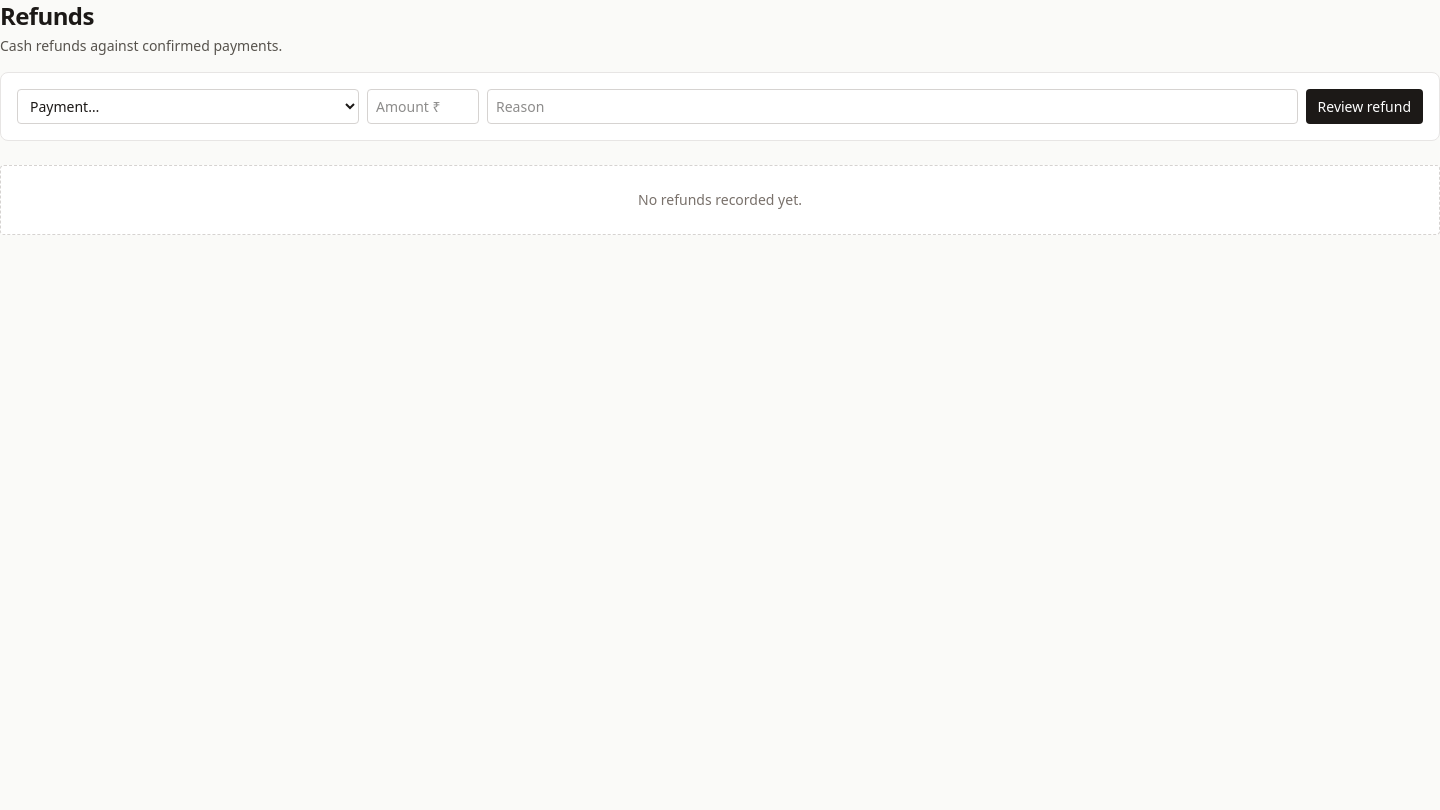
Test: Admin pages (Stage 7) › refunds page creates a refund only after confirmation
The width and height of the screenshot is (1440, 810).
Later steps or results of the test are not shown.
Expected: the text "No refunds recorded yet." is shown, [0, 165, 1439, 235]
Step 1. Select "R-2026-11-24-001 · B-2026-11-24-001 · ₹548.00" in the dropdown named "Payment to refund" → {"x": 188, "y": 106}, box [17, 89, 359, 124]
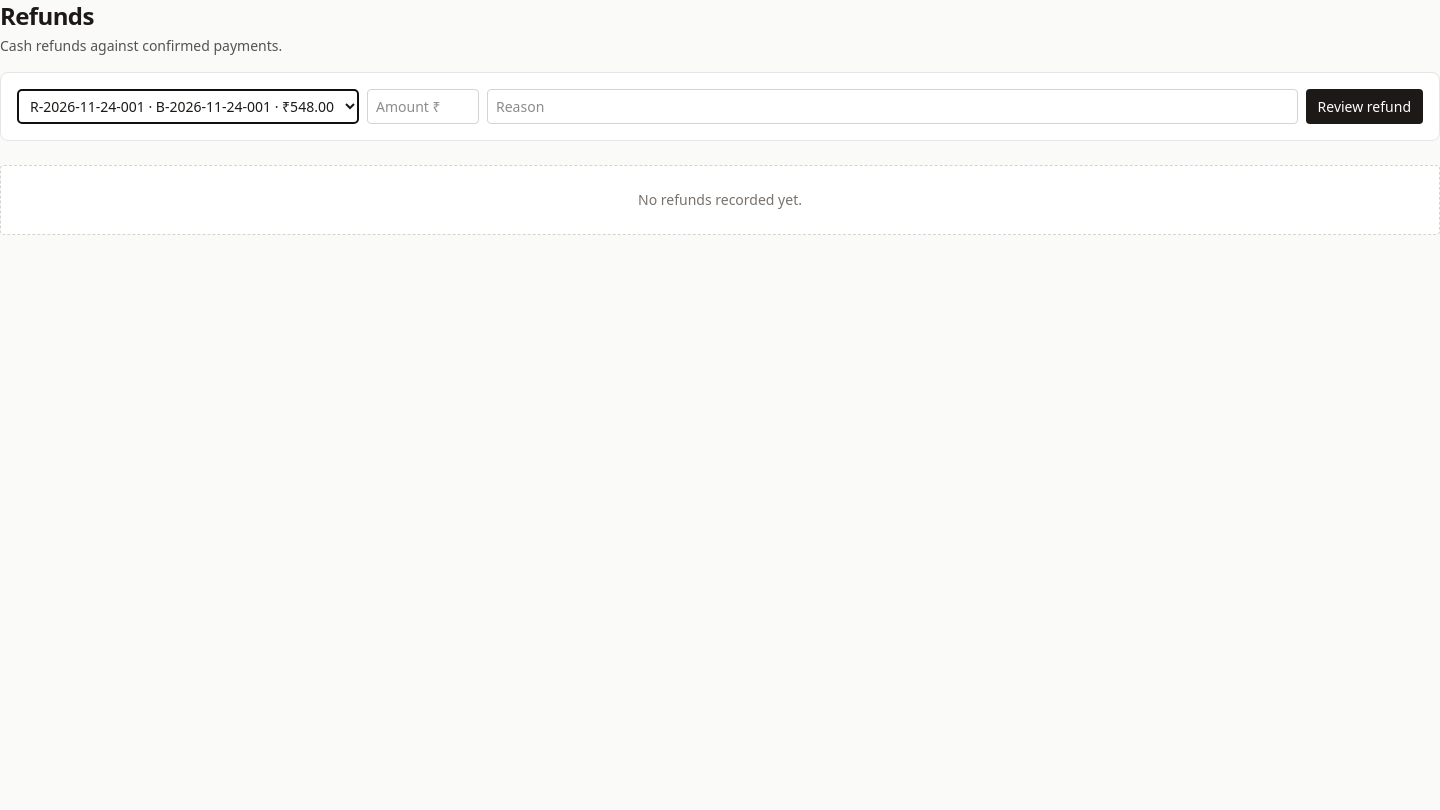
Step 2. Type "100" into the field named "Refund amount in rupees" → {"x": 423, "y": 106}, box [367, 89, 479, 124]
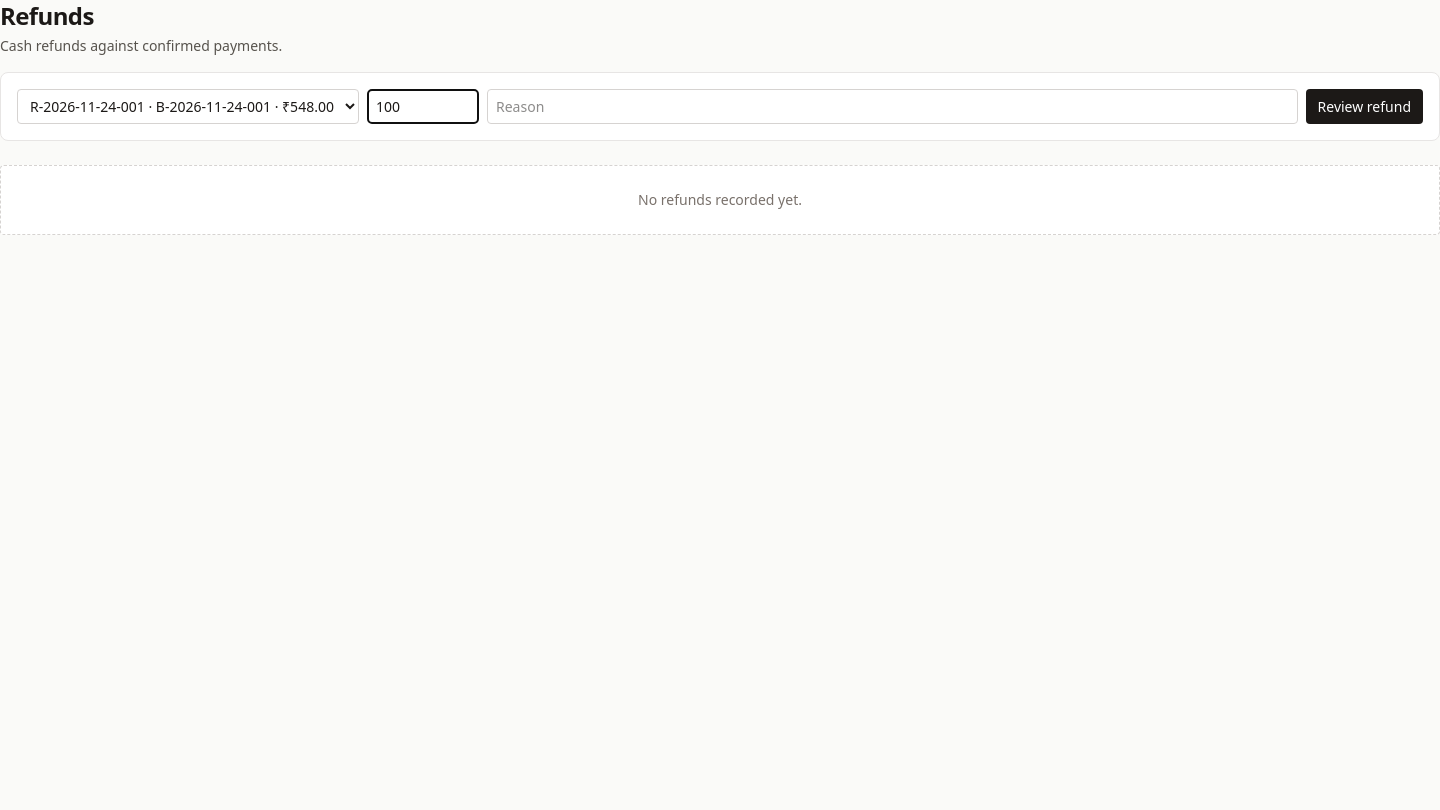
Step 3. Type "Wrong dish" into the field named "Refund reason" → {"x": 892, "y": 106}, box [487, 89, 1298, 124]
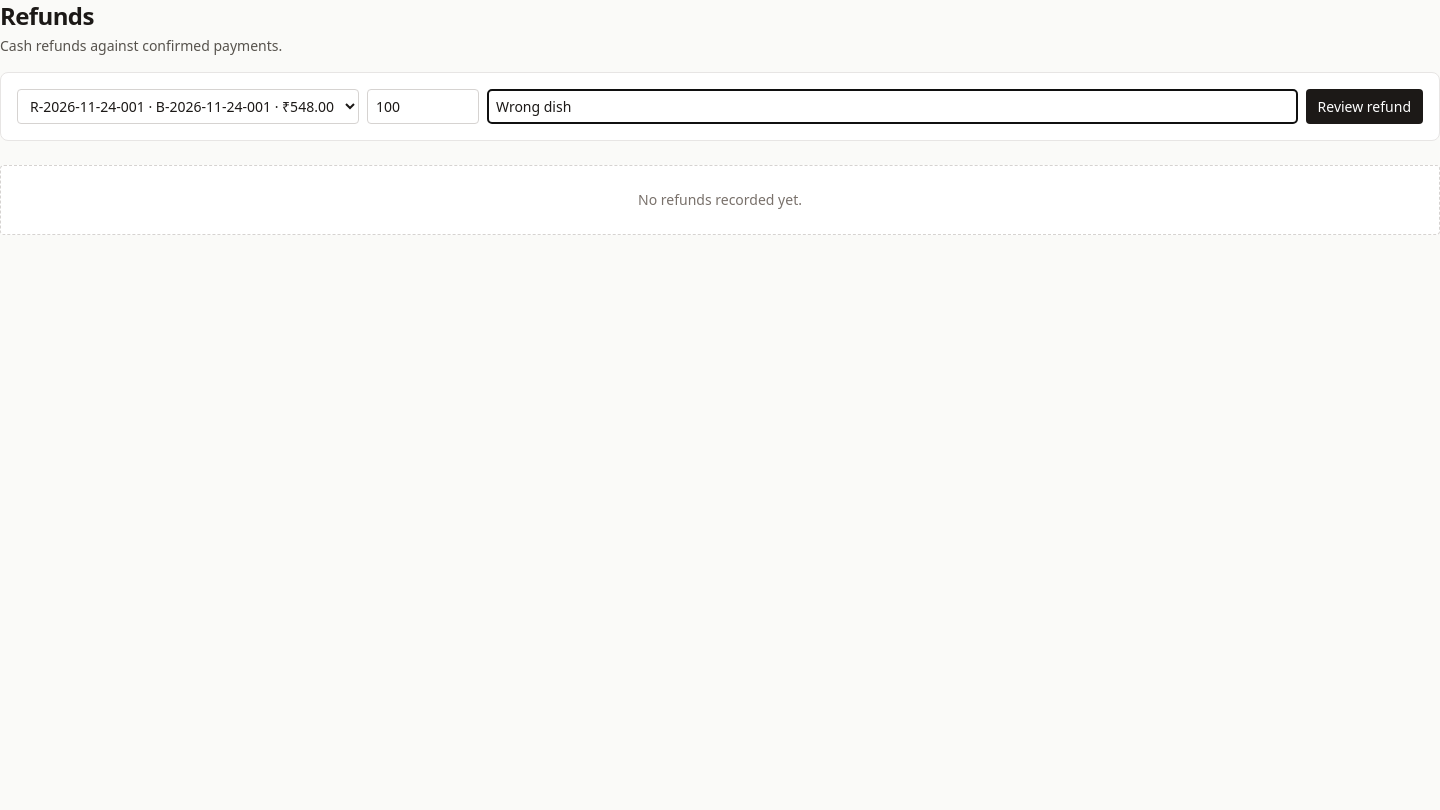
Step 4. Click the button "Review refund" → {"x": 1364, "y": 106}, box [1306, 89, 1423, 124]
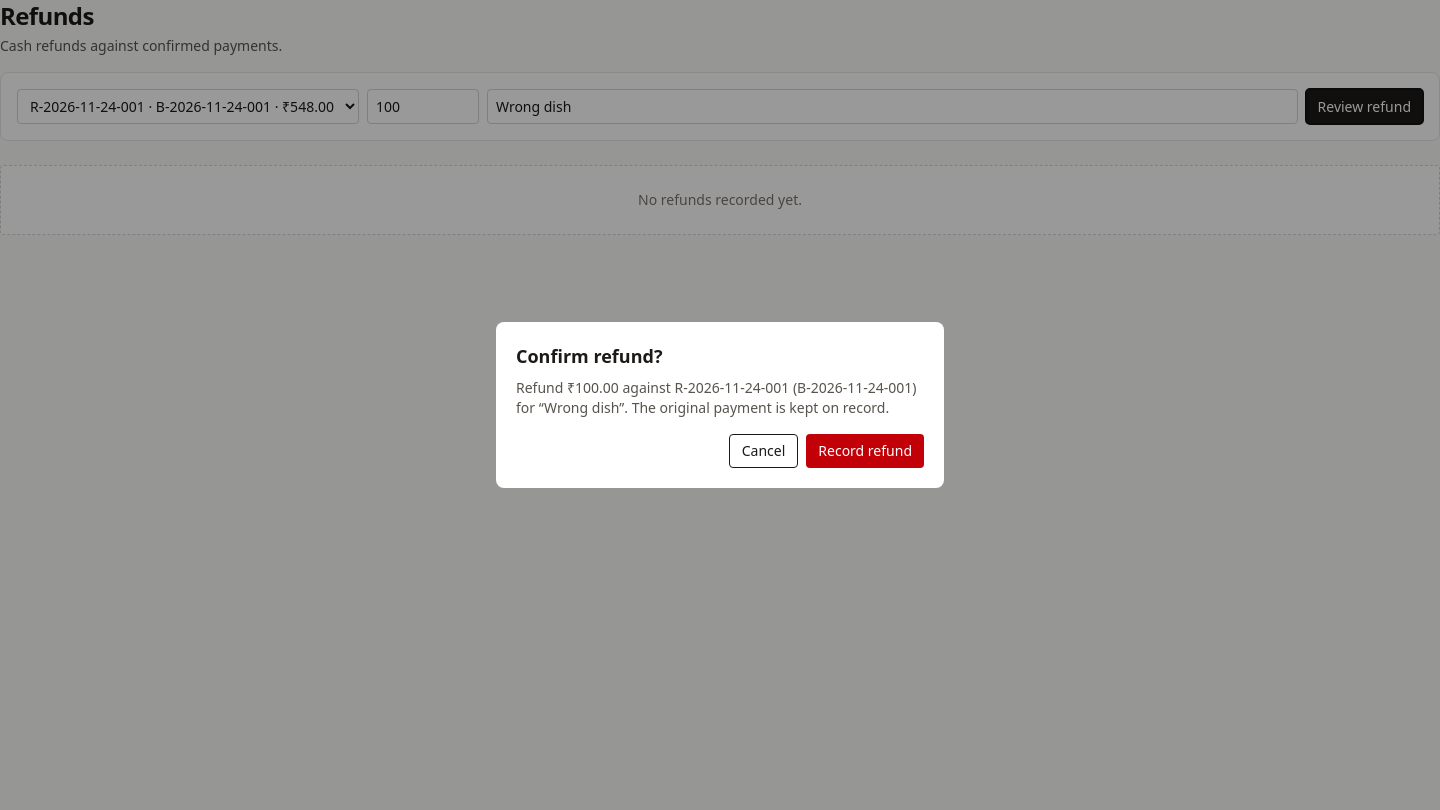
Result: the heading "Confirm refund?" is shown at [516, 344, 662, 368]
